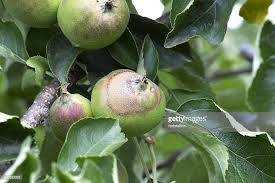damaged_apple: (93, 71, 165, 136), (57, 1, 136, 50), (49, 91, 99, 139)
